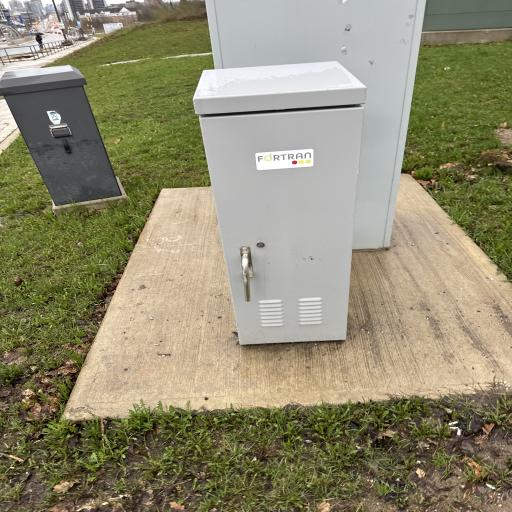Electrical Box: (192, 0, 434, 346), (0, 64, 130, 208)
